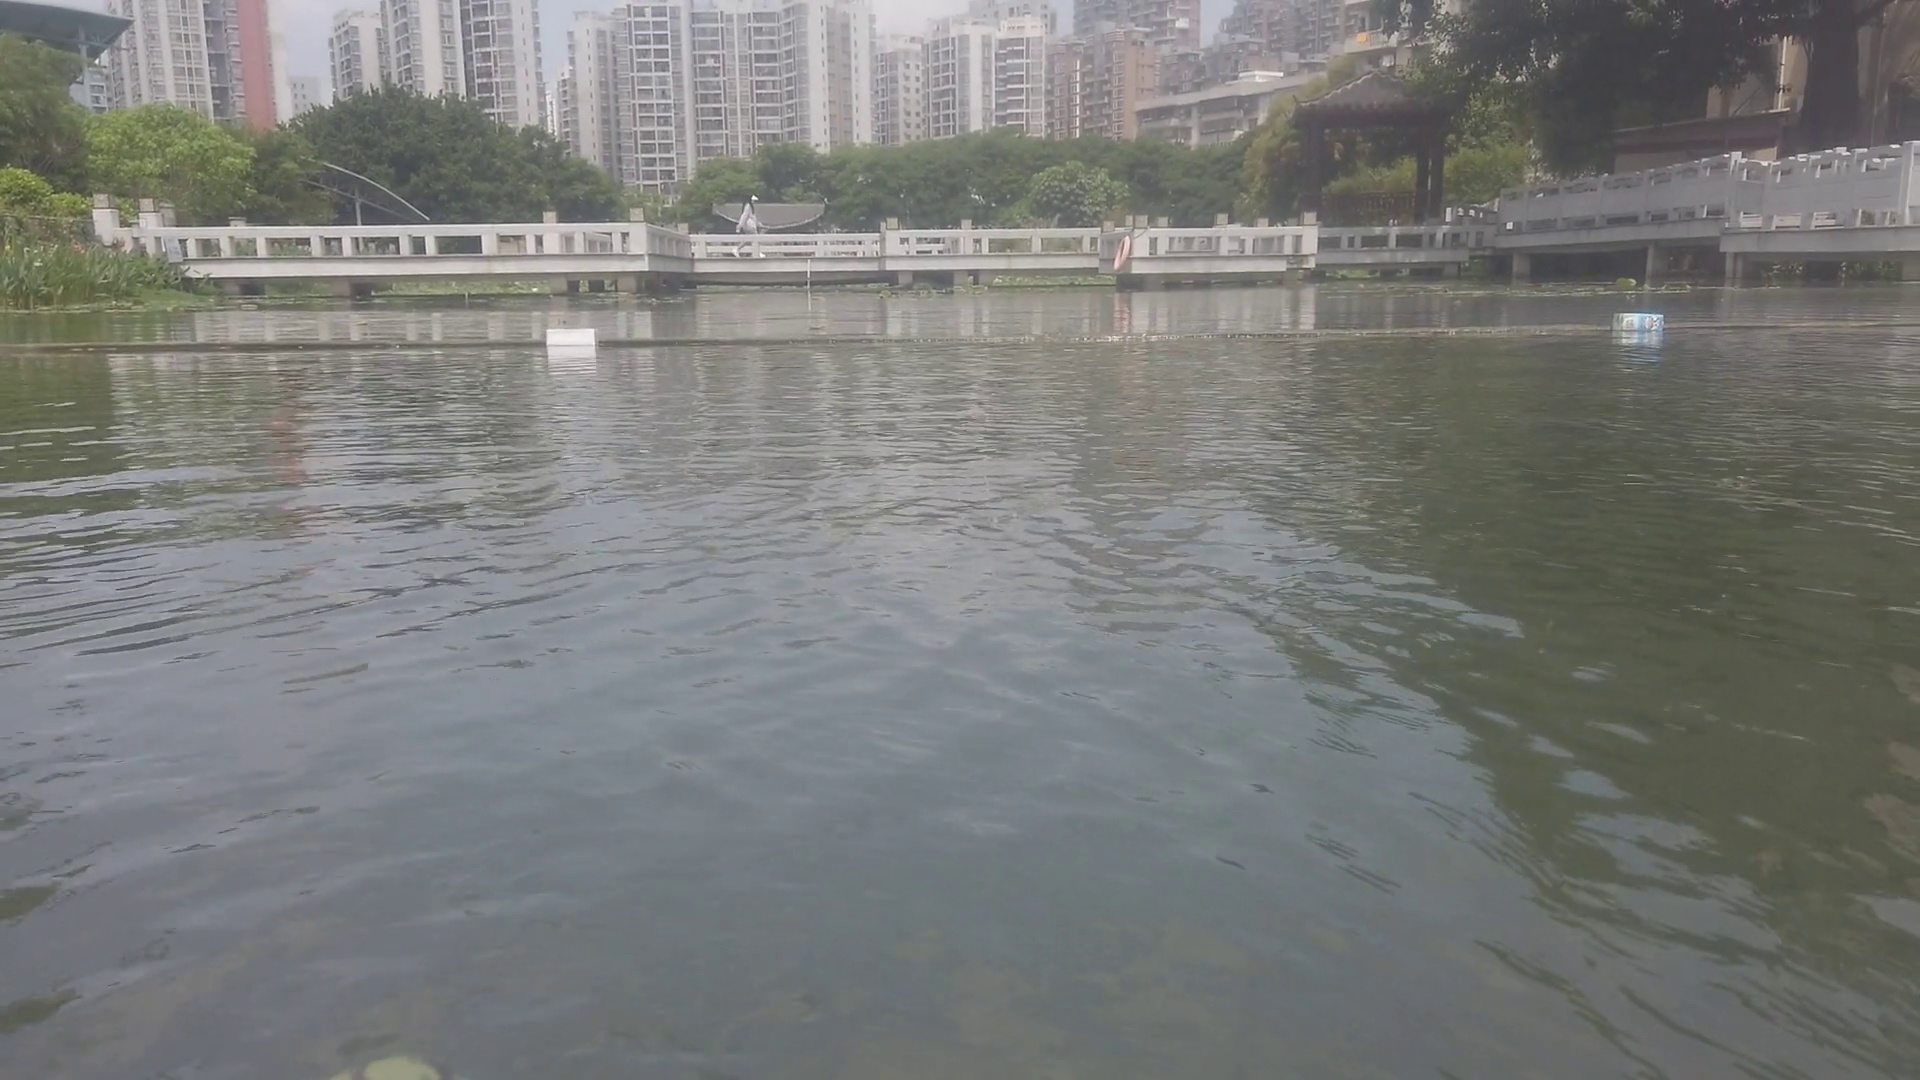carton: (1611, 306, 1669, 332), (541, 324, 597, 347)
